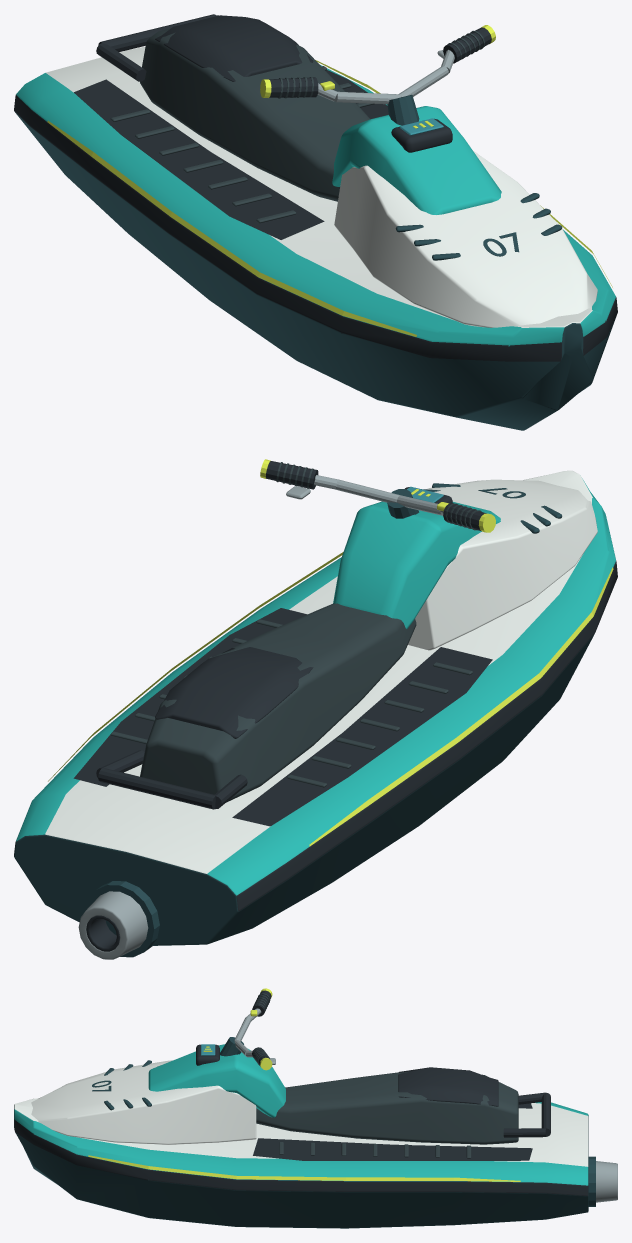
Rendered from riptide.glb.
3 views of the same model, one above another, from view 1: azimuth 30°, elevation 25°; view 2: azimuth 150°, elevation 25°; view 3: azimuth 270°, elevation 25° (orthographic). The views are drawn at different scales.
Visible parts, largest first — view 1: Riptide 07 Jet Ski, Riptide Handlebar; view 2: Riptide 07 Jet Ski, Riptide Handlebar; view 3: Riptide 07 Jet Ski, Riptide Handlebar.
Part boxes in pixels (box(x1,y1,x2,y2)): Riptide 07 Jet Ski: box(14, 14, 617, 430); Riptide Handlebar: box(269, 27, 491, 104); Riptide 07 Jet Ski: box(14, 459, 617, 959); Riptide Handlebar: box(265, 461, 486, 531); Riptide 07 Jet Ski: box(14, 988, 617, 1228); Riptide Handlebar: box(234, 990, 275, 1066).
Size of the model in its own units: 1.2 by 1.19 by 3.36.
